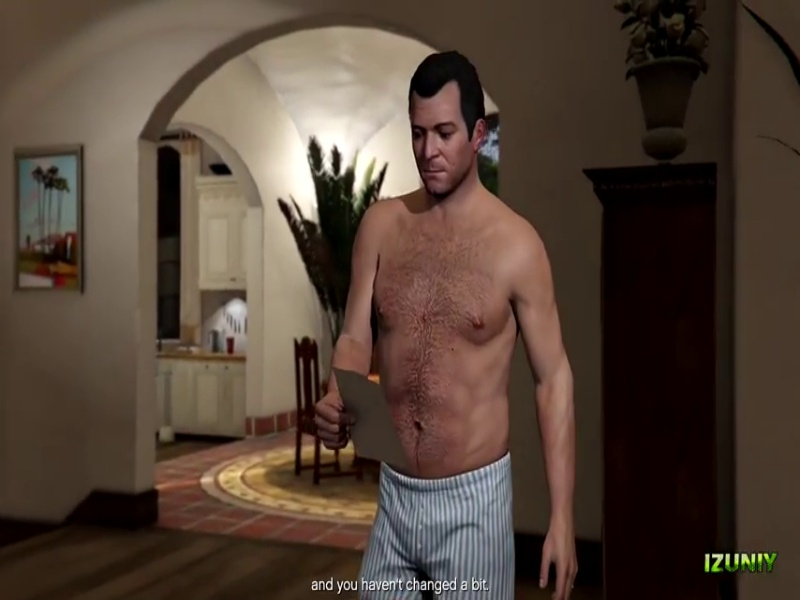human: (323, 55, 575, 593)
